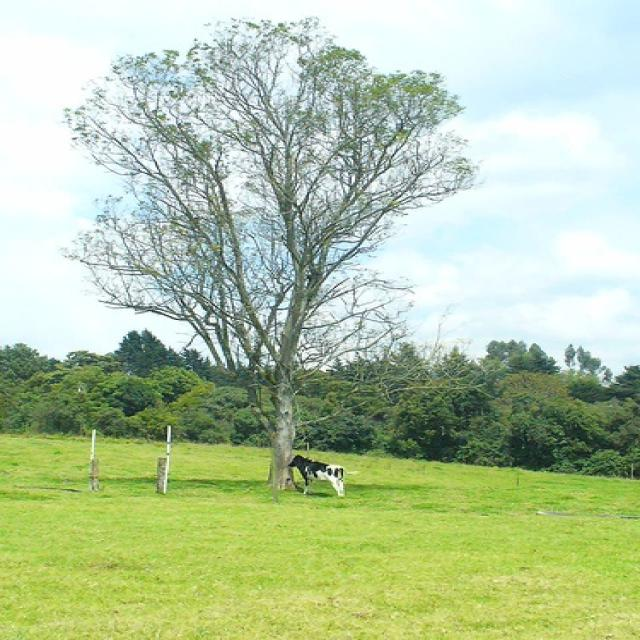cow: (289, 453, 348, 498)
